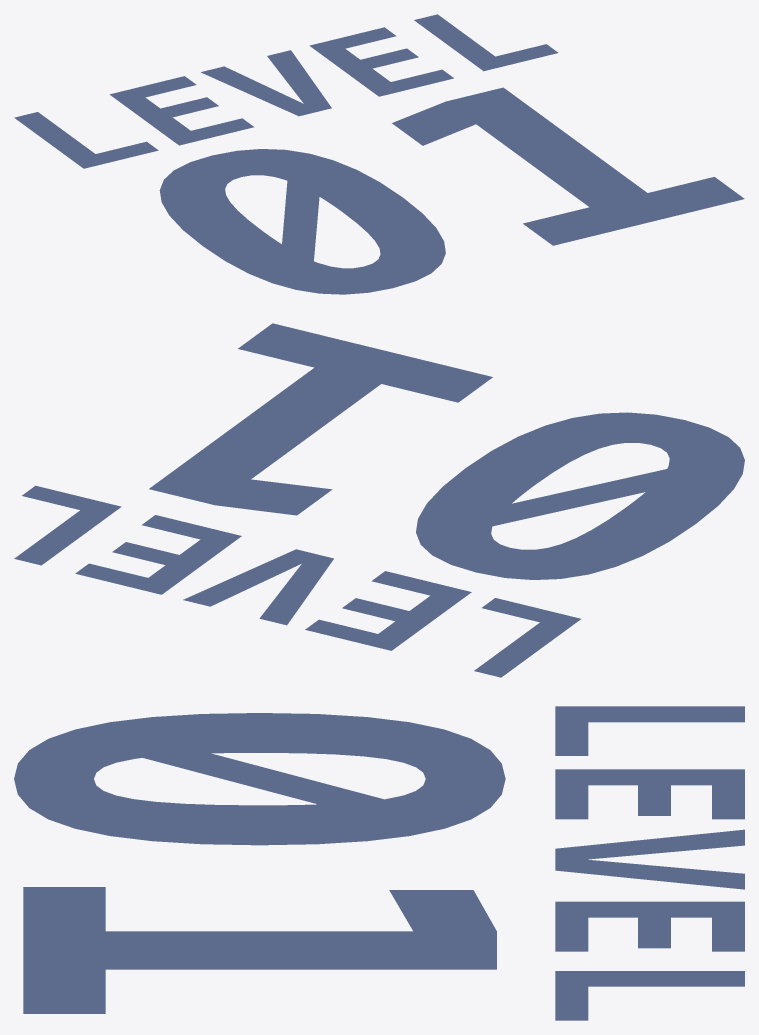
Rendered from Level_01_Label_01.fbx.
3 views of the same model, one above another, from view 1: azimuth 30°, elevation 25°; view 2: azimuth 150°, elevation 25°; view 3: azimuth 270°, elevation 25° (orthographic). The views are drawn at different scales.
Visible parts, largest first — view 1: Level_01_Label_01; view 2: Level_01_Label_01; view 3: Level_01_Label_01.
Part boxes in pixels (box(x1,y1,x2,y2)): Level_01_Label_01: box(14, 14, 744, 294); Level_01_Label_01: box(14, 323, 744, 677); Level_01_Label_01: box(14, 706, 744, 1020).
Size of the model in its own units: 915 by 0 by 900.
